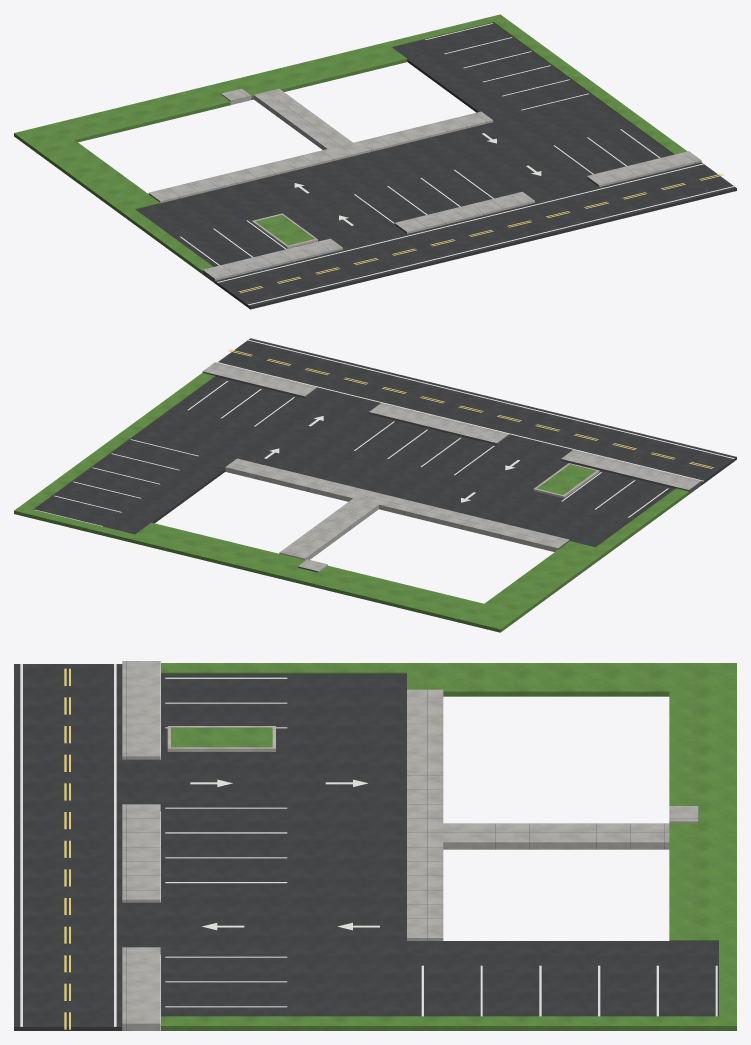
The model's file is site.glb.
3 views of the same model, one above another, from view 1: azimuth 30°, elevation 25°; view 2: azimuth 150°, elevation 25°; view 3: azimuth 270°, elevation 25° (orthographic). The views are drawn at different scales.
Parts seen in each view (by area): view 1: site_asphalt, site_grass, site_concrete, site_paint_w, site_yellowp; view 2: site_asphalt, site_grass, site_concrete, site_paint_w, site_dark, site_yellowp; view 3: site_asphalt, site_grass, site_concrete, site_paint_w, site_yellowp, site_curb, site_dark.
Boxes of the visible parts, x1,y1,x2,y2 form: site_asphalt: (135, 22, 736, 309); site_grass: (14, 14, 687, 274); site_concrete: (149, 88, 701, 280); site_paint_w: (180, 23, 734, 305); site_yellowp: (238, 173, 723, 293); site_asphalt: (34, 338, 736, 547); site_grass: (14, 372, 688, 632); site_concrete: (202, 362, 700, 572); site_paint_w: (35, 339, 734, 526); site_dark: (202, 371, 701, 572); site_yellowp: (228, 349, 713, 468); site_asphalt: (14, 664, 718, 1030); site_grass: (161, 663, 736, 1030); site_concrete: (122, 661, 698, 1030); site_paint_w: (20, 664, 717, 1026); site_yellowp: (64, 668, 70, 1029); site_curb: (167, 726, 275, 751); site_dark: (126, 661, 698, 1030).
Bounding box in the file's own units: 38.3 × 0.35 × 32.
Materials: 7 (4 with a texture image).
